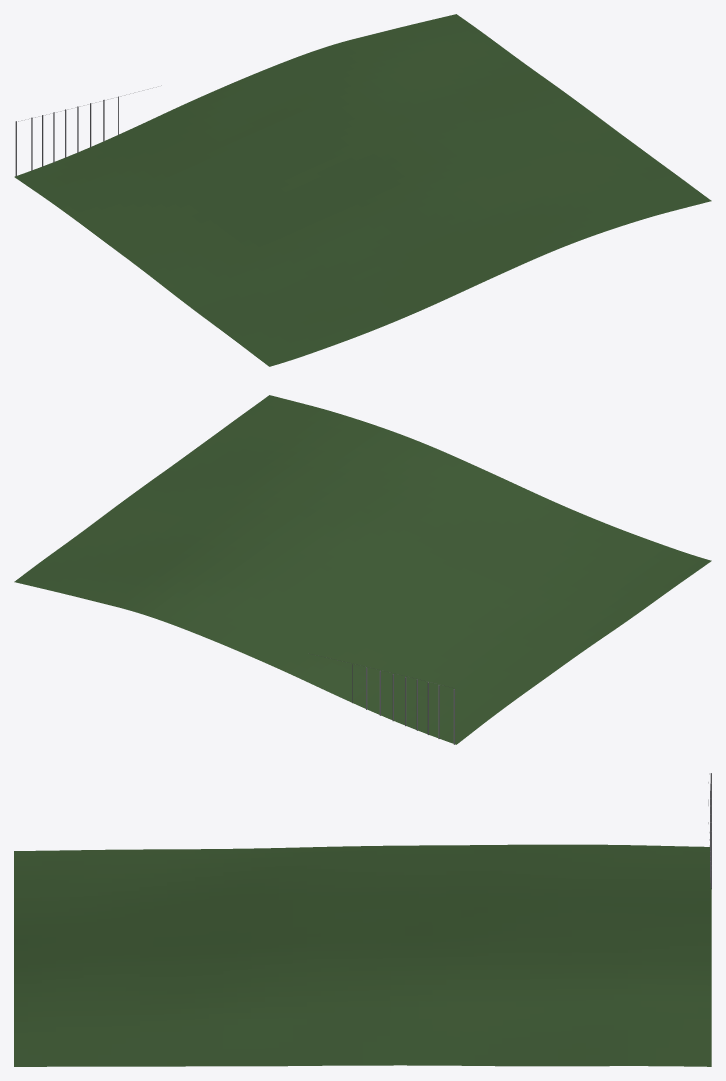
Rendered from chunk5-4_LOD0.obj.
3 views of the same model, one above another, from view 1: azimuth 30°, elevation 25°; view 2: azimuth 150°, elevation 25°; view 3: azimuth 270°, elevation 25° (orthographic). The views are drawn at different scales.
Visible parts, largest first — view 1: Terrain, Bridges_AI; view 2: Terrain, Bridges_AI; view 3: Terrain.
Part boxes in pixels (box(x1,y1,x2,y2)): Terrain: box(14, 14, 711, 366); Bridges_AI: box(15, 85, 161, 176); Terrain: box(14, 395, 711, 744); Bridges_AI: box(309, 653, 454, 744); Terrain: box(14, 844, 711, 1066).
Size of the model in its own units: 4000 by 509 by 4003.
